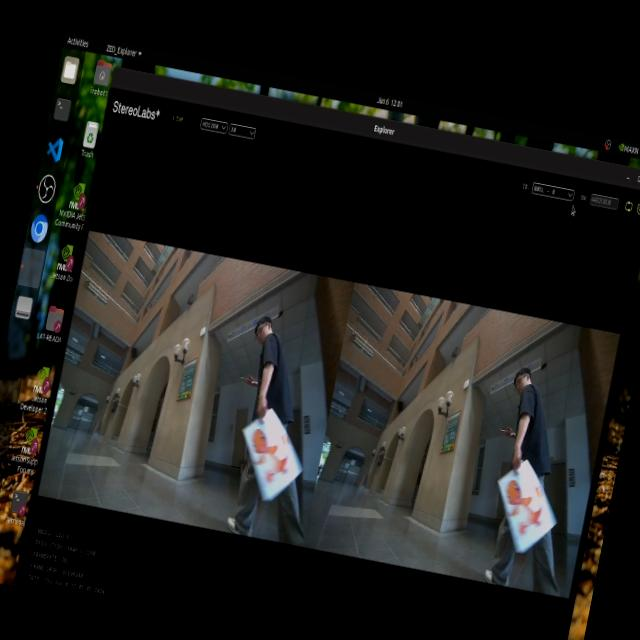red: (239, 416, 303, 486), (494, 474, 550, 550)
